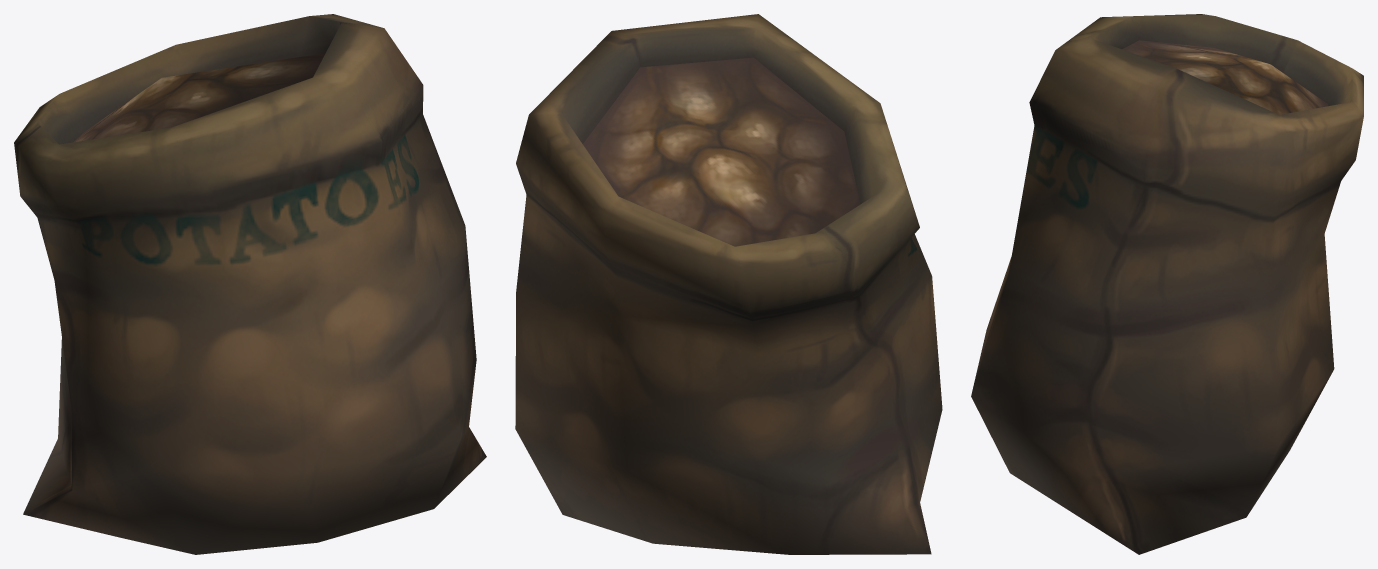
The model's file is sack_of_potatoes_large3.fbx.
3 renders of one model, left to right at view 1: azimuth 30°, elevation 25°; view 2: azimuth 150°, elevation 25°; view 3: azimuth 270°, elevation 25°, orthographic. The views are drawn at different scales.
Visible parts, largest first — view 1: sack_of_potatoes_large3; view 2: sack_of_potatoes_large3; view 3: sack_of_potatoes_large3.
Part boxes in pixels (x1,y1,x2,y2): sack_of_potatoes_large3: (14,14,486,554); sack_of_potatoes_large3: (515,14,942,554); sack_of_potatoes_large3: (971,14,1363,554).
Size of the model in its own units: 94.01 by 94.69 by 78.04.
